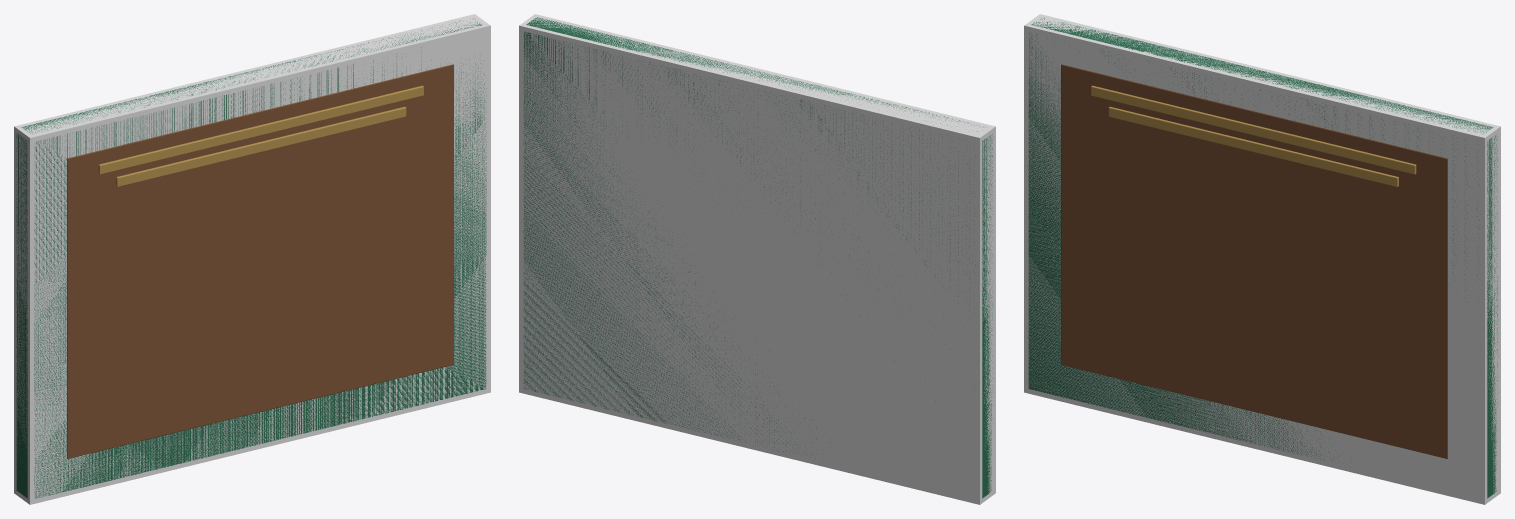
File: wall-art_luxury.glb
3 renders of one model, left to right at view 1: azimuth 30°, elevation 25°; view 2: azimuth 150°, elevation 25°; view 3: azimuth 330°, elevation 25°, orthographic.
Parts seen in each view (by area): view 1: MESH_Inset, COL_wall-art, MESH_Frame, MESH_TierTrim_01, MESH_TierTrim_02; view 2: COL_wall-art, MESH_Frame; view 3: MESH_Inset, COL_wall-art, MESH_Frame, MESH_TierTrim_01, MESH_TierTrim_02.
Boxes of the visible parts, box(x1,y1,x2,y2) form: MESH_Inset: box(67, 64, 453, 458); COL_wall-art: box(14, 14, 490, 504); MESH_Frame: box(16, 19, 486, 498); MESH_TierTrim_01: box(98, 85, 423, 174); MESH_TierTrim_02: box(116, 106, 406, 186); COL_wall-art: box(519, 14, 995, 504); MESH_Frame: box(523, 17, 993, 498); MESH_Inset: box(1061, 64, 1447, 458); COL_wall-art: box(1024, 14, 1500, 504); MESH_Frame: box(1028, 18, 1498, 498); MESH_TierTrim_01: box(1091, 85, 1416, 174); MESH_TierTrim_02: box(1108, 106, 1398, 186).
Size of the model in its own units: 0.92 by 0.7 by 0.0603.
